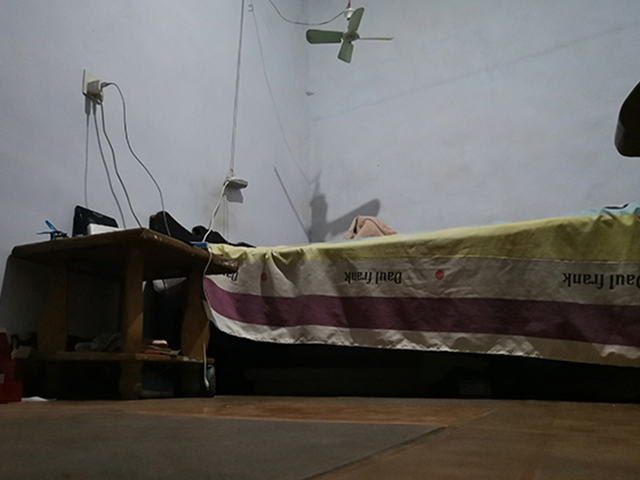bed: (186, 201, 640, 394)
table: (6, 224, 238, 398)
wire: (84, 76, 250, 394)
